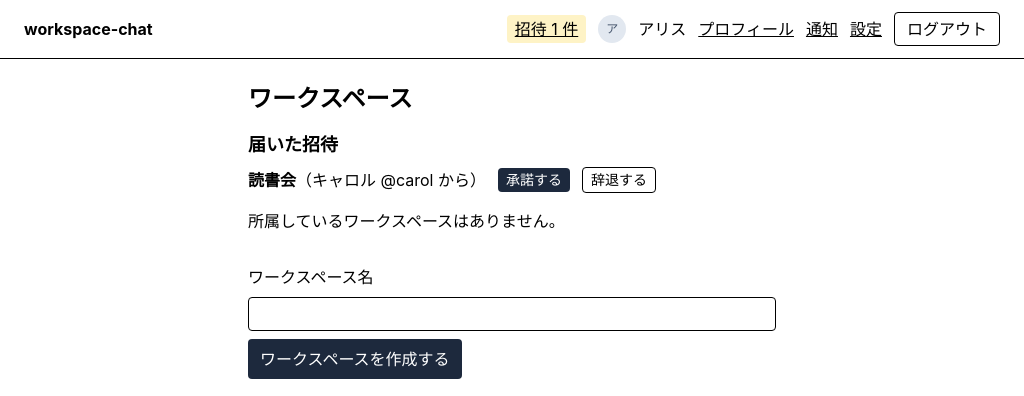
Test: 届いた招待の承諾と辞退（F-38） › 承諾すると api に送り、招待を消して、そのワークスペースを所属の一覧に並べる
expect the list named "届いた招待" is shown: met, box [248, 167, 656, 193]
Click the button with aria-label "読書会 への招待を承諾する" at (534, 180), box [498, 168, 570, 192]
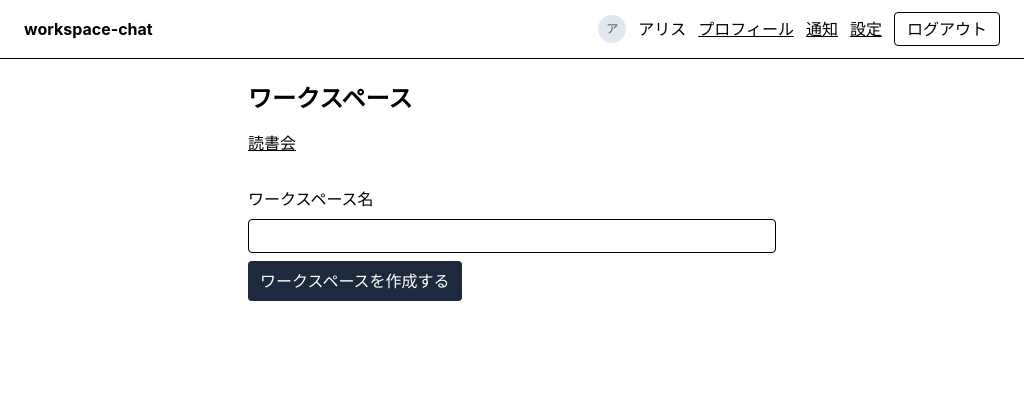
expect the heading "届いた招待" is gone: met
